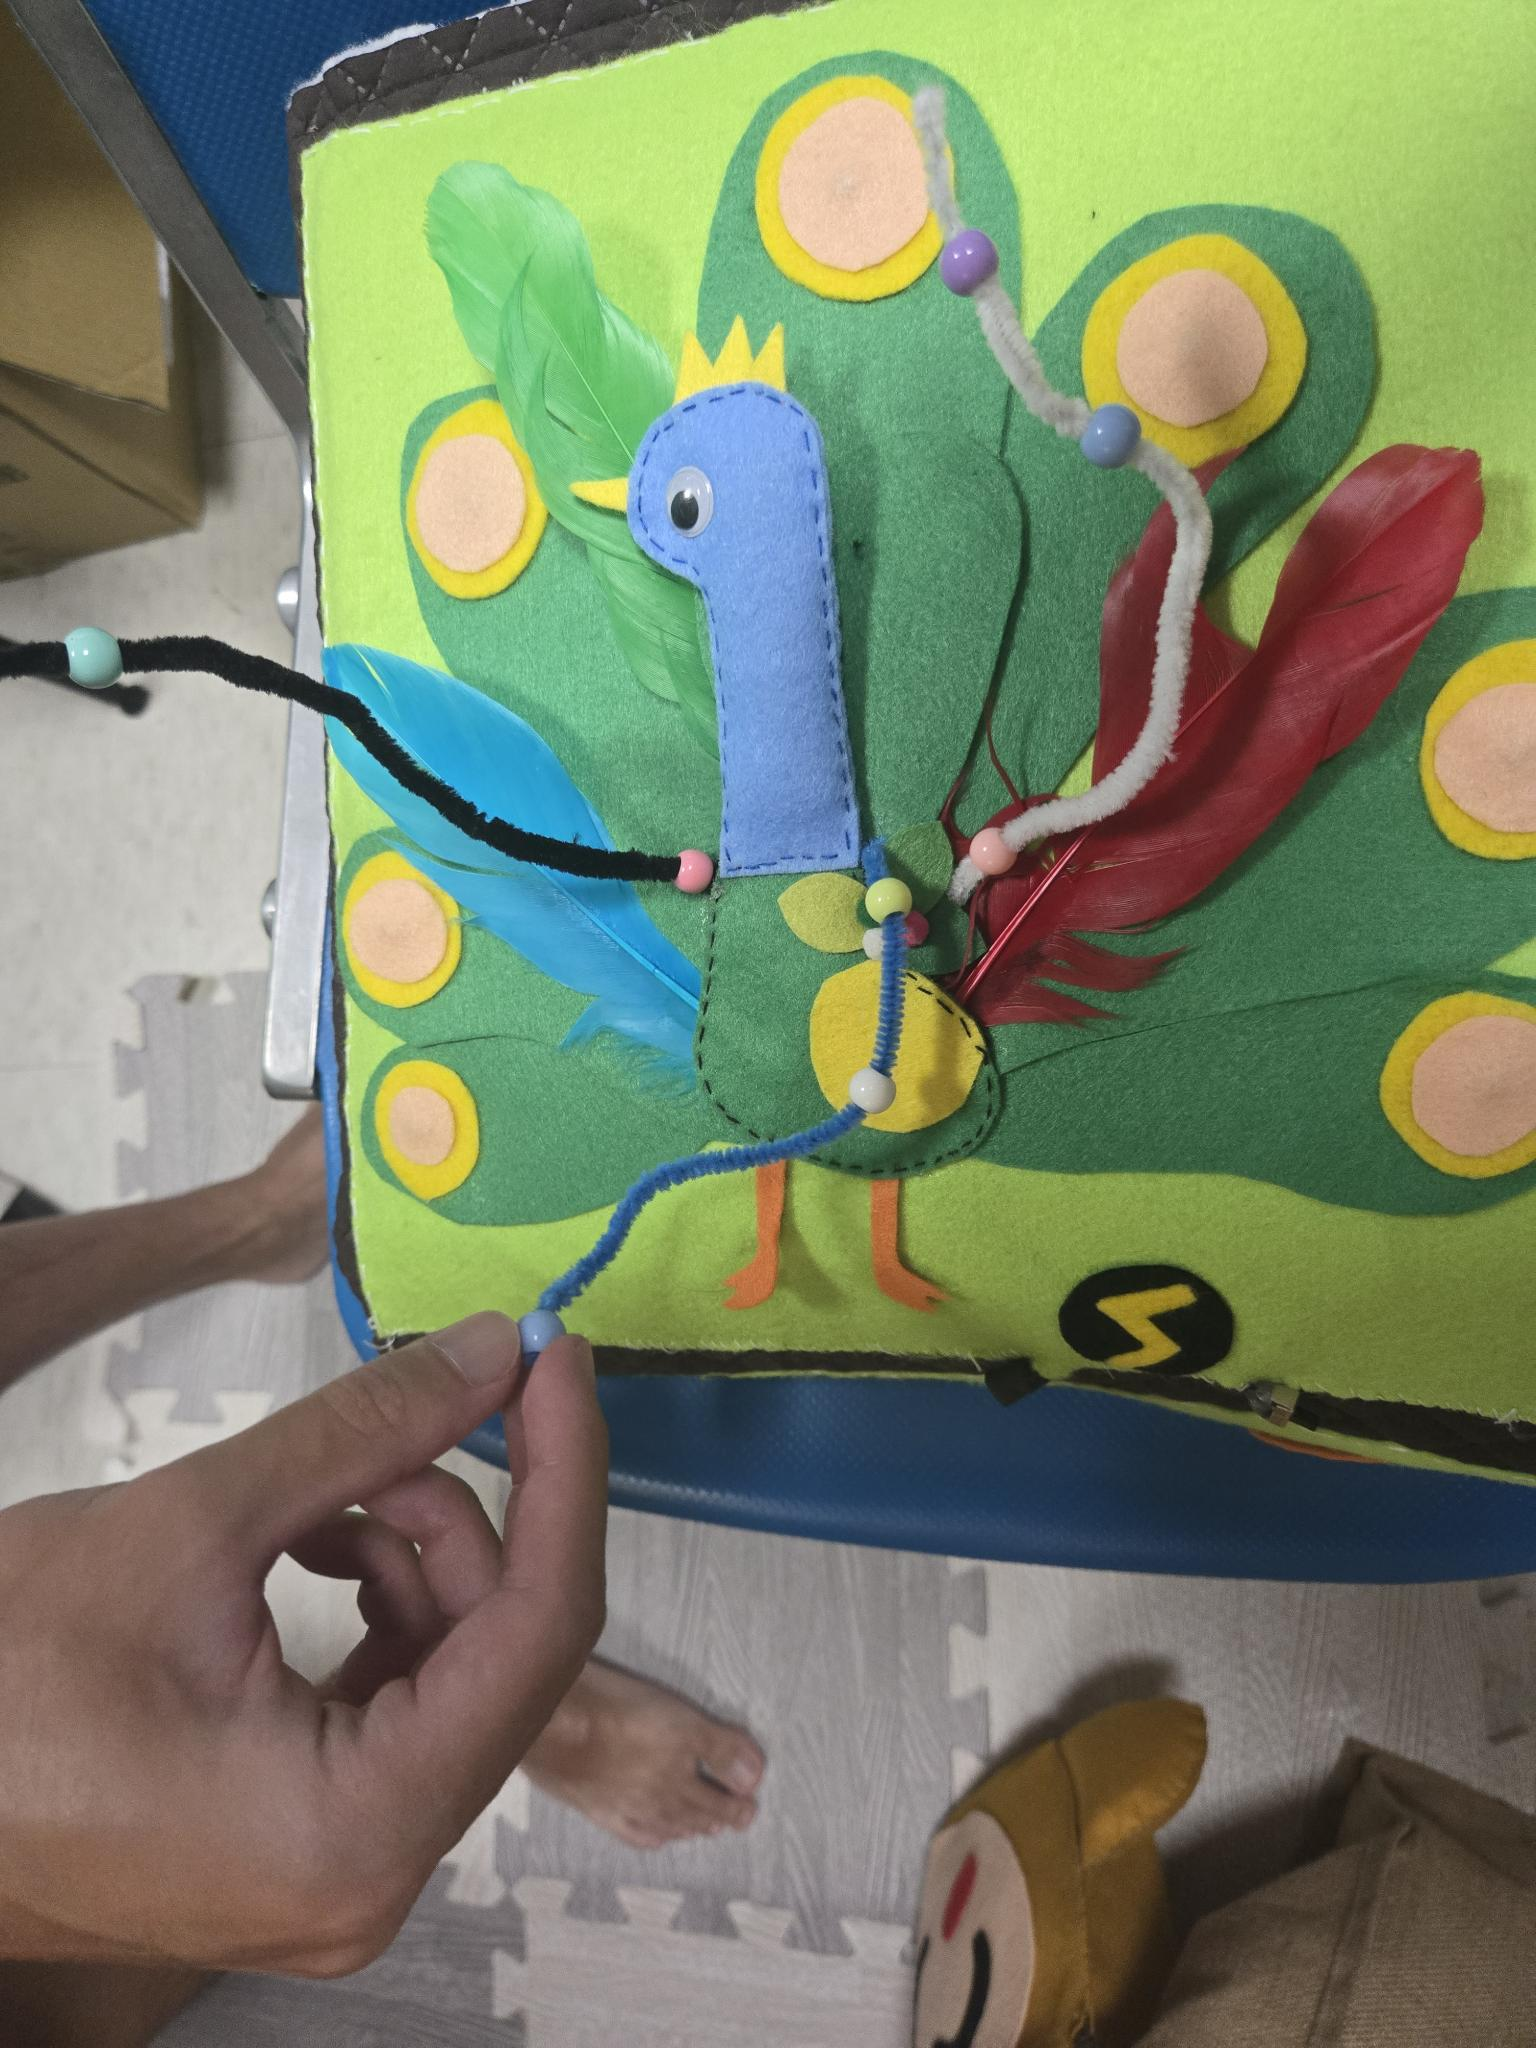bead: (37, 605, 137, 706), (928, 197, 1005, 326), (1060, 385, 1149, 481), (502, 1285, 576, 1385), (958, 816, 1026, 895), (662, 830, 728, 911), (845, 1056, 912, 1127), (855, 872, 928, 935)
